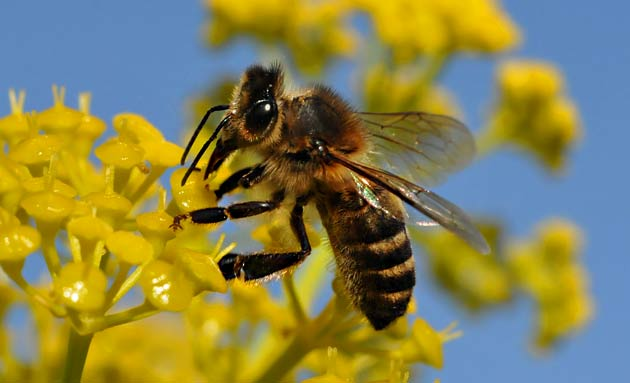bee: (156, 45, 507, 340)
